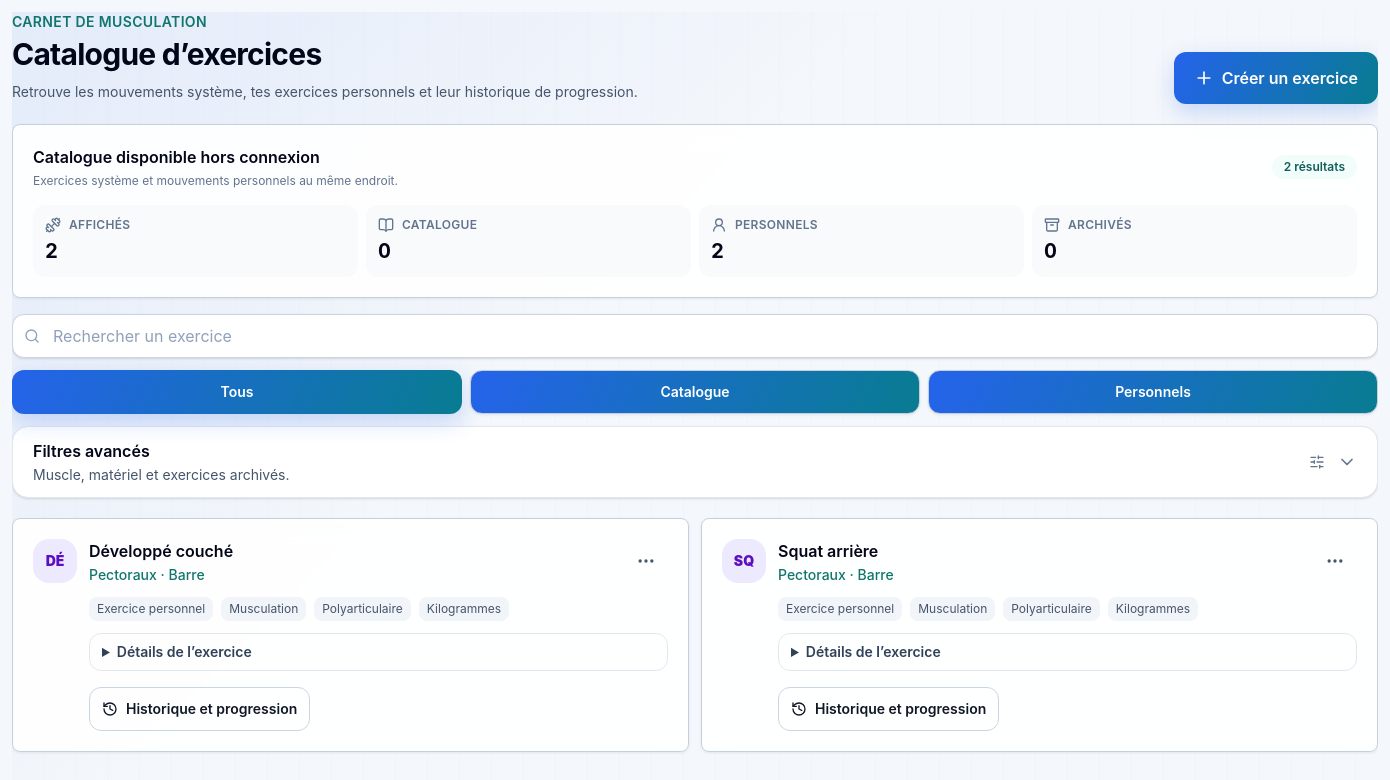
Scenario: StrengthExercisesPage › réinitialise un filtre qui masque des exercices existants sans pousser vers la création
This screenshot has width=1390, height=780.
Expected: the heading "Squat arrière" is shown, [778,539,878,563]
Click the button "Catalogue" at point(695, 392), box [470,370,920,414]
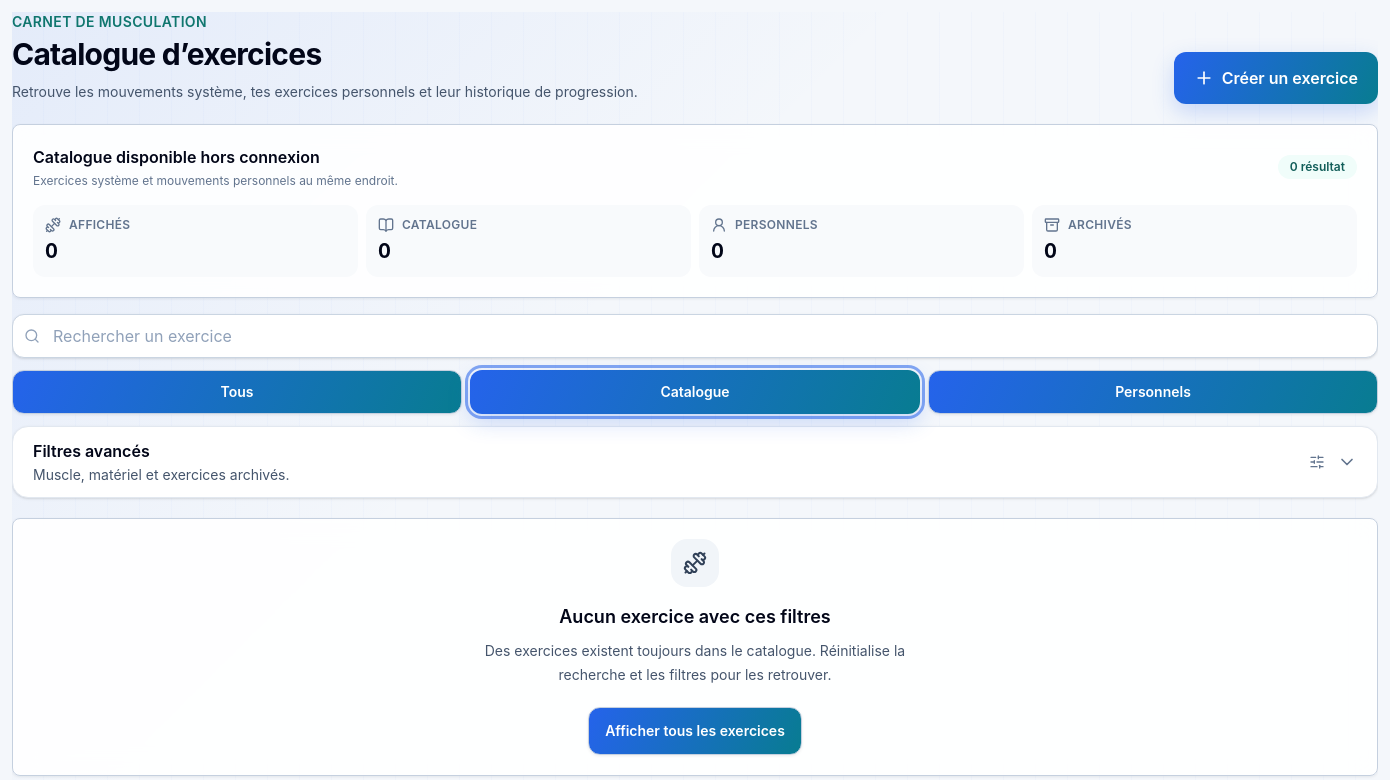
Click the button "Afficher tous les exercices" at point(695, 731), box [588,707,802,755]
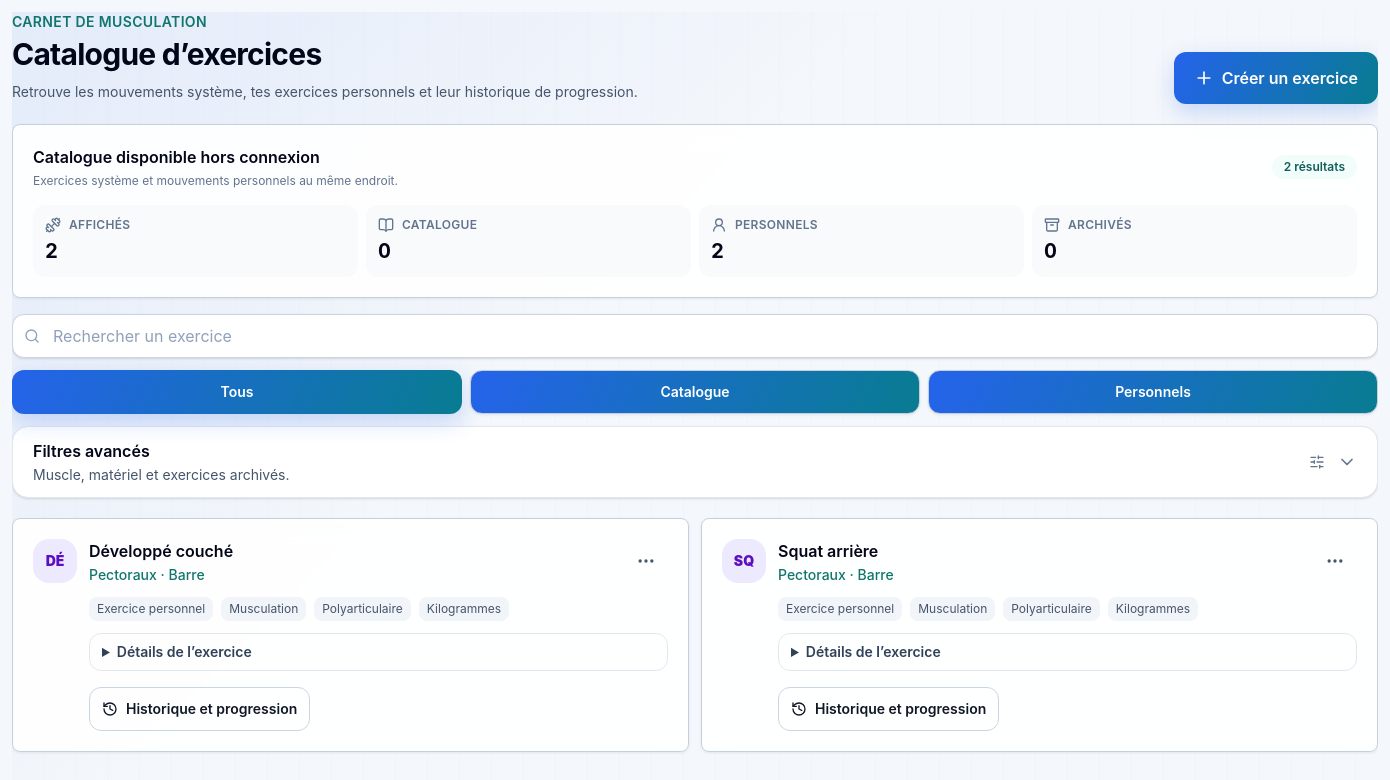
Expected: the heading "Squat arrière" is shown, [778,539,878,563]
Expected: the heading "Développé couché" is shown, [89,539,233,563]
